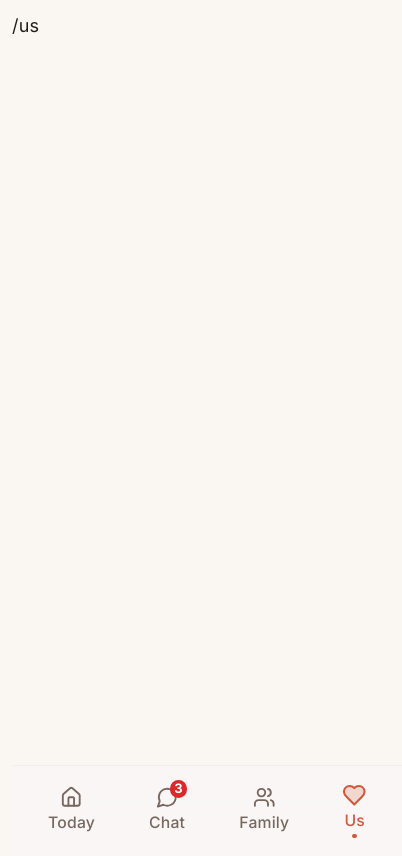
Test case: BottomNav › navigates to the correct path for each tab
Click the button "Today" at (72, 811), box [34,782,108,840]
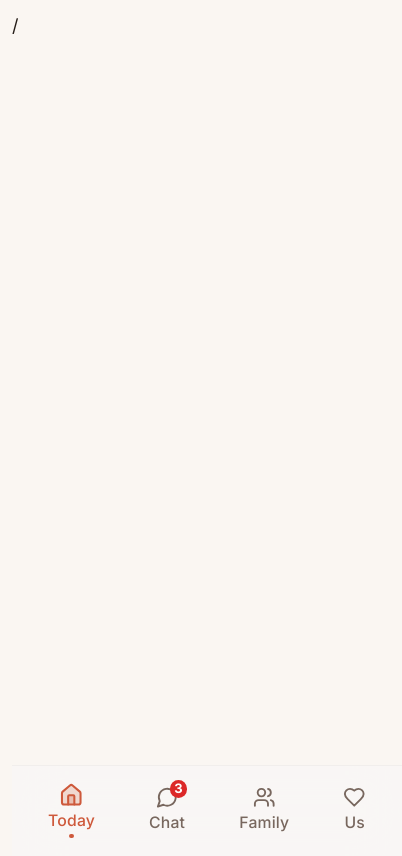
Expected: the text with test id "location" reads "/", [12,15,19,36]
Click the button "3 Chat" at (167, 811), box [136,782,199,840]
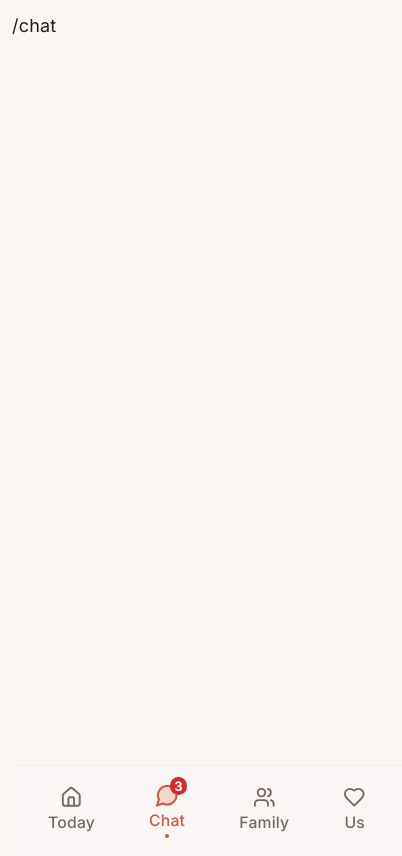
Now the text with test id "location" reads "/chat", box [12,15,56,36]
Click the button "Family" at (264, 811), box [226,782,303,840]
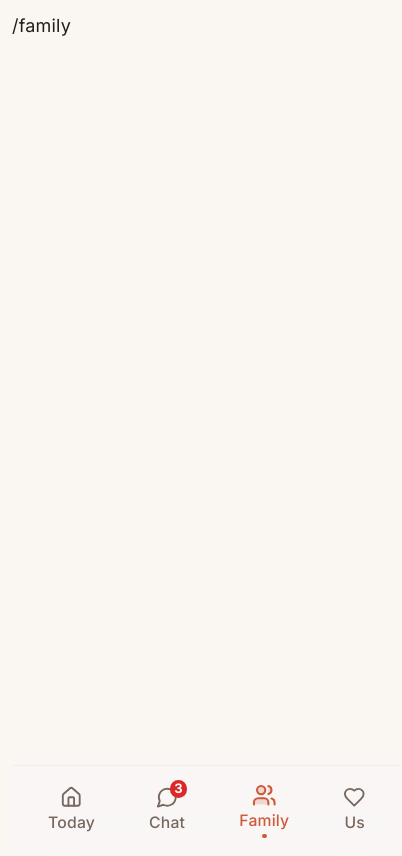
Now the text with test id "location" reads "/family", box [12,15,71,36]
Click the button "Us" at (355, 811), box [330,782,379,840]
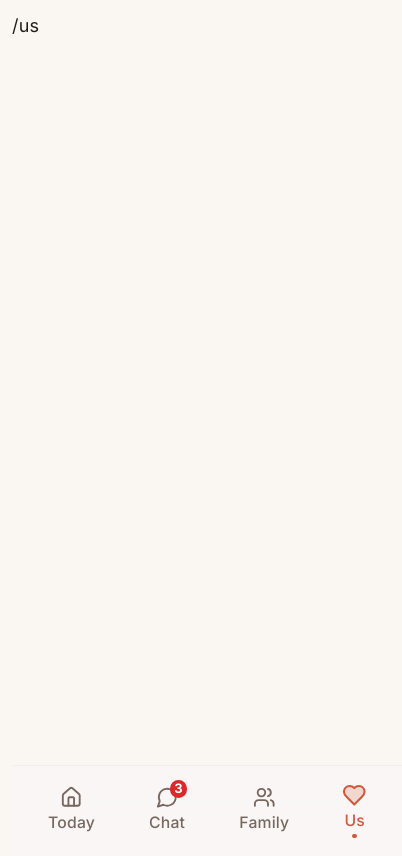
Now the text with test id "location" reads "/us", box [12,15,39,36]
